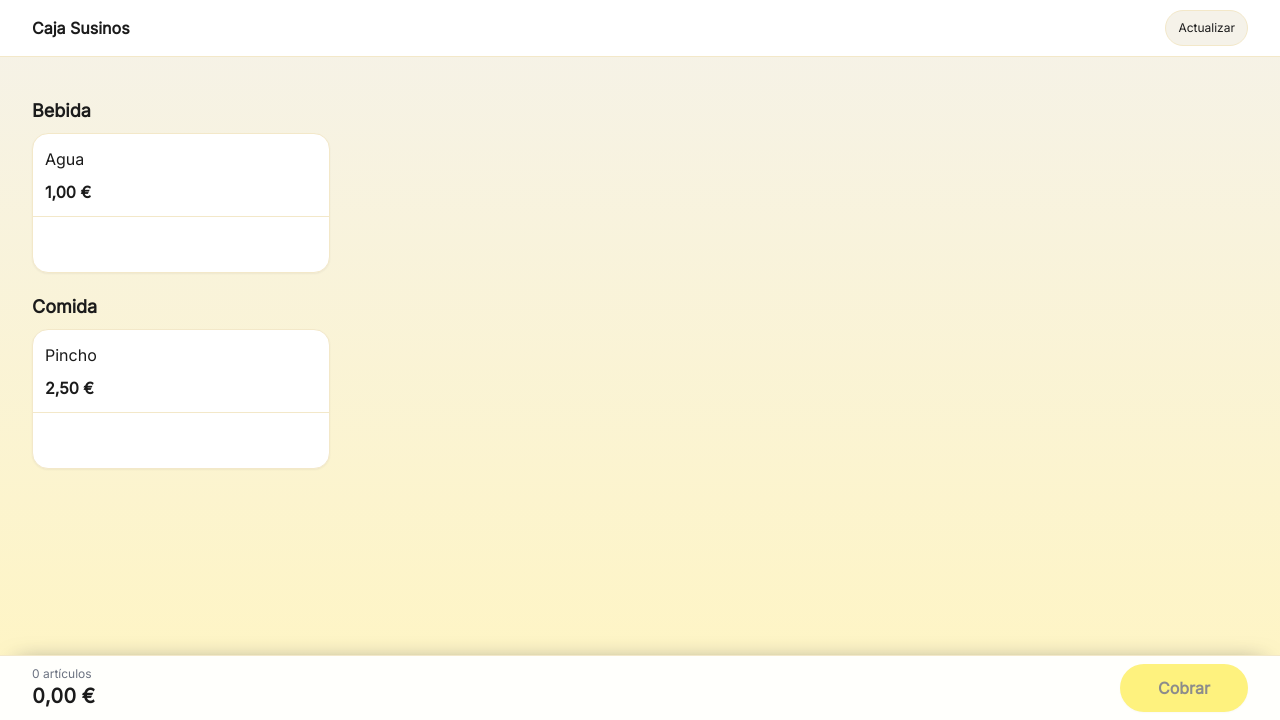
it: Caja product catalog › shows Vaciar only for a non-empty ticket and cancel preserves the ticket
expect the button "Cobrar" is disabled: met, box x1=1120 y1=664 x2=1248 y2=712
expect the button "Vaciar" is not shown: met
Click the button with aria-label "Añadir Agua a la comanda".
click(65, 159)  # box x1=33 y1=134 x2=329 y2=216
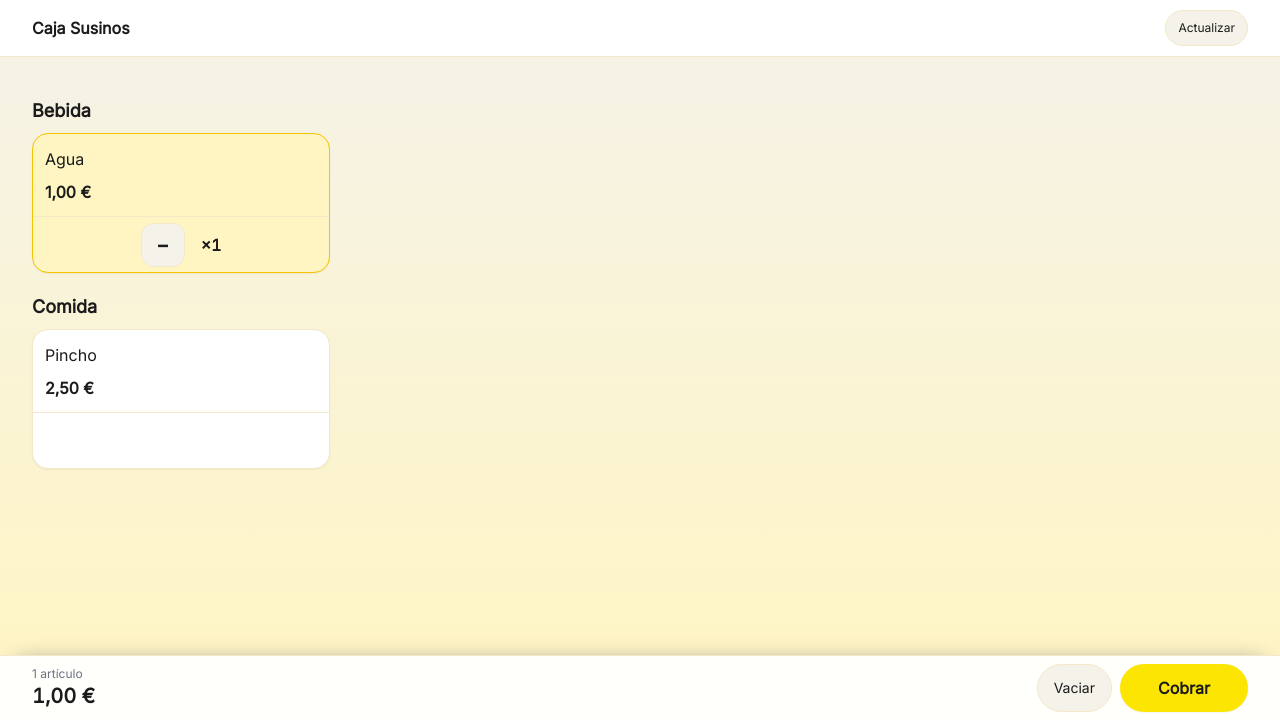
Click the button with aria-label "Añadir Pincho a la comanda".
click(71, 355)  # box x1=33 y1=330 x2=329 y2=412
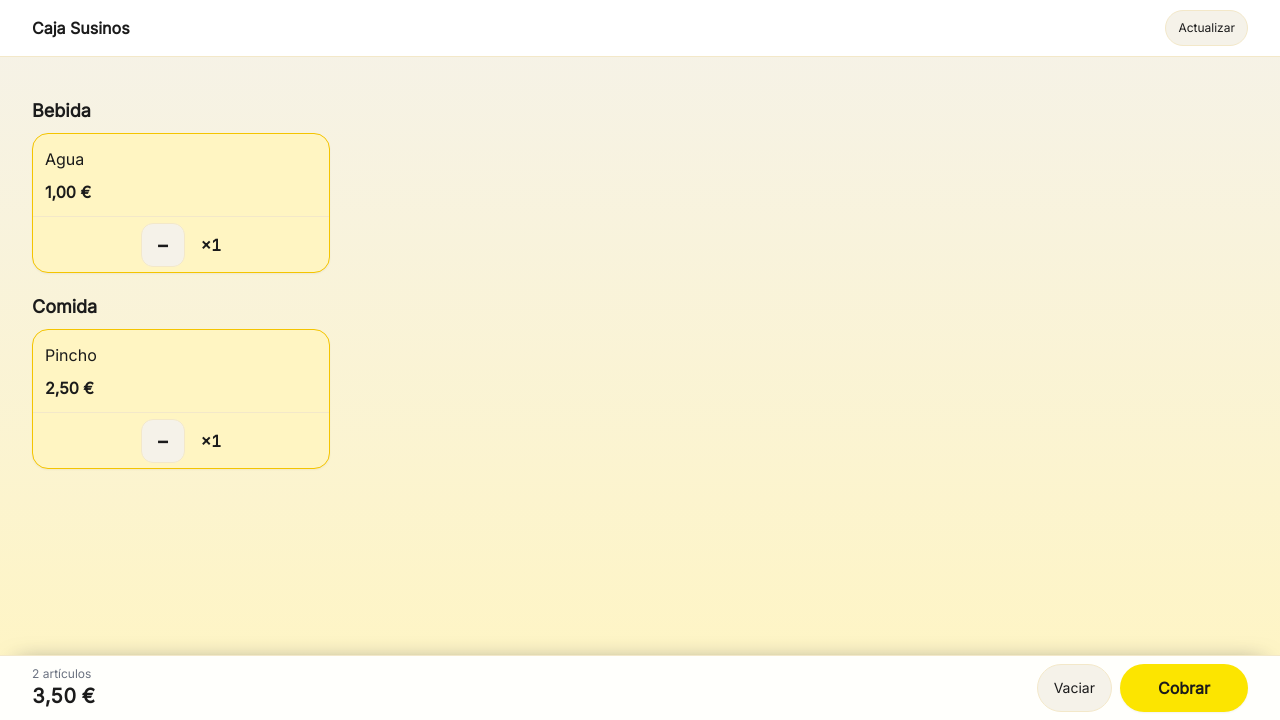
Click the button "Vaciar".
click(1074, 688)  # box x1=1037 y1=664 x2=1112 y2=712
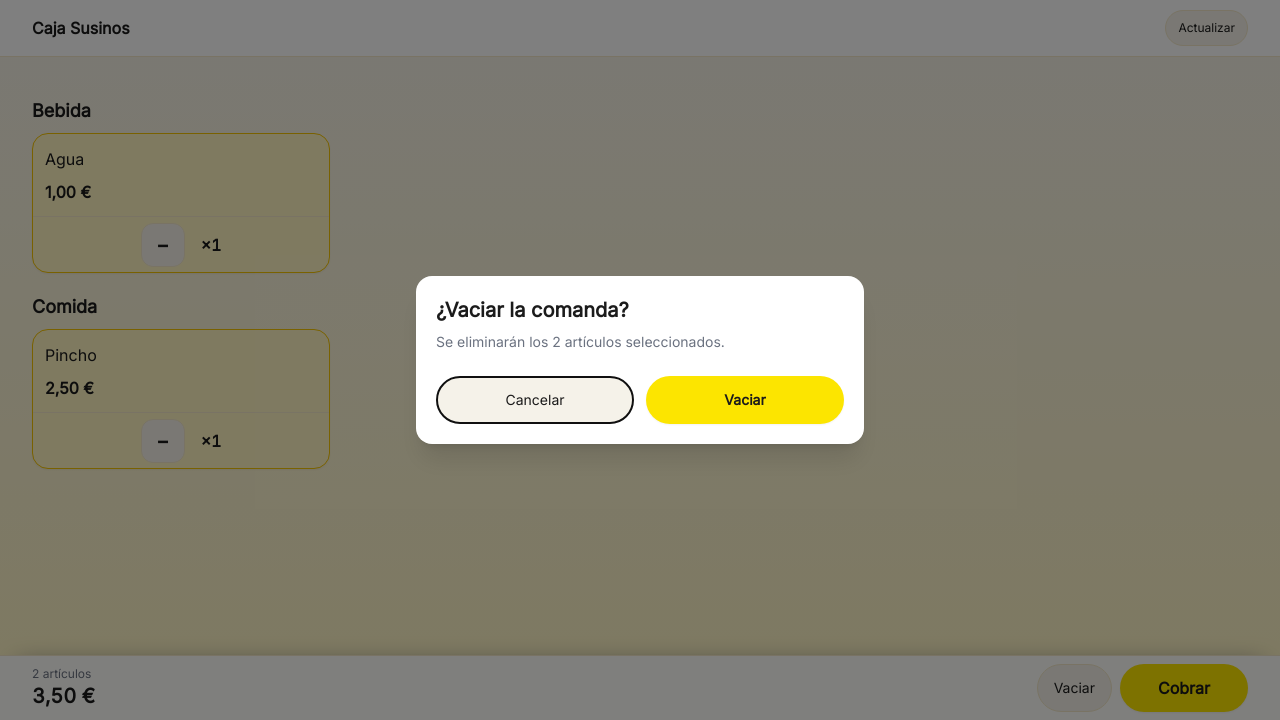
expect the dialog "¿Vaciar la comanda?" shows "Se eliminarán los 2 artículos seleccionados.": met, box x1=416 y1=276 x2=864 y2=444
Click the button "Cancelar".
click(535, 400)  # box x1=436 y1=376 x2=634 y2=424
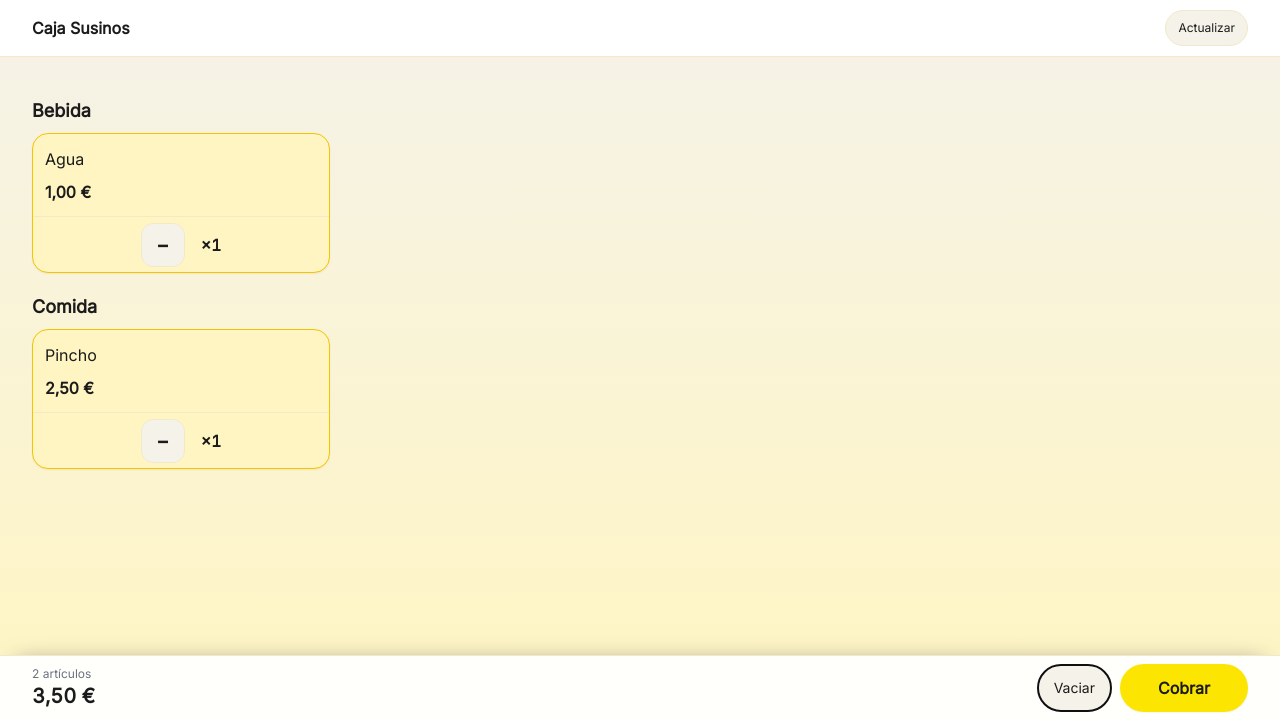
expect the text named "Número de artículos" reads "2 artículos": met, box x1=32 y1=666 x2=95 y2=682
expect the text named "Total de la comanda" reads "3,50 €": met, box x1=32 y1=684 x2=95 y2=708
expect the dialog is gone: met
